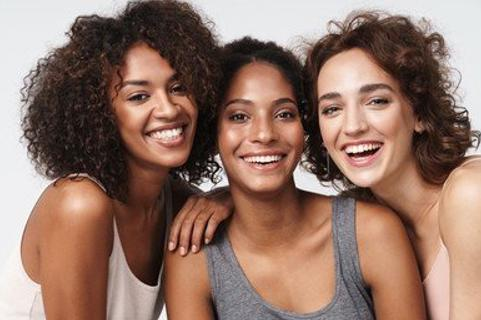Sober: (317, 60, 403, 181), (213, 74, 300, 180), (111, 55, 196, 162)
